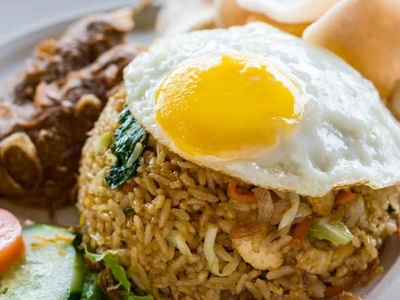nasigoreng: (86, 41, 395, 283)
